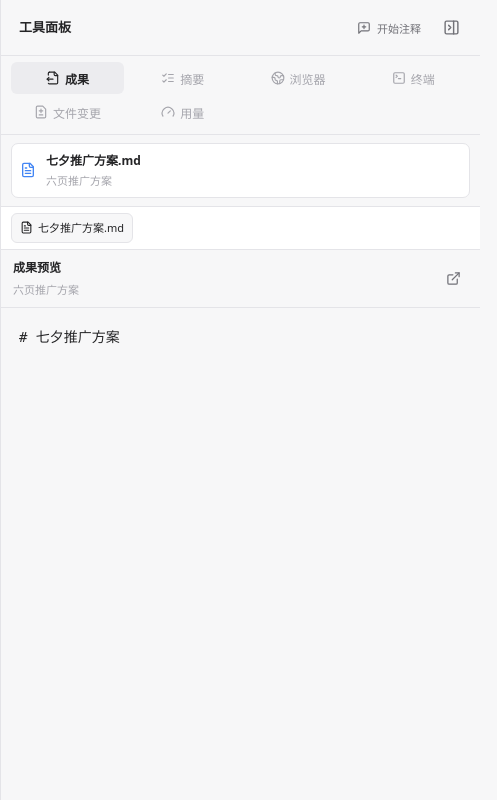
Scenario: WorkbenchPanel › 展示结构化摘要和浏览器目标
Click the tab "摘要".
click(183, 78)  # box [126,62,240,94]
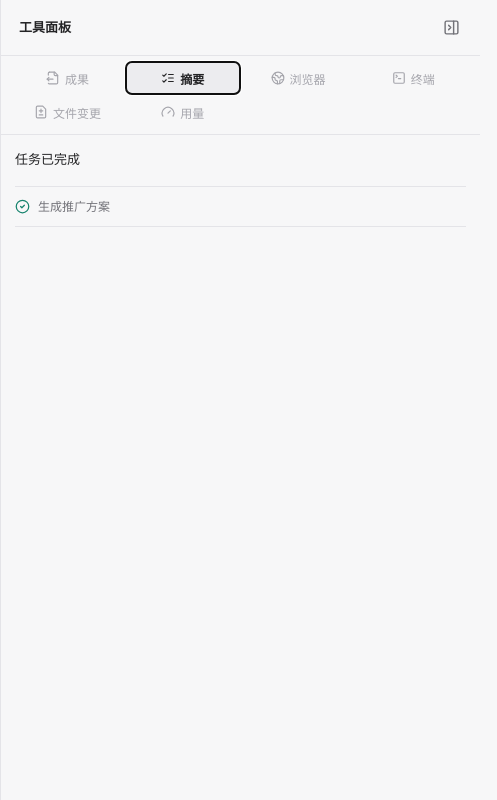
Result: the text "生成推广方案" is shown at [38,197,110,216]
Result: the text "任务已完成" is shown at [15,150,80,168]
Click the tab "浏览器".
click(298, 78)  # box [242,62,355,94]
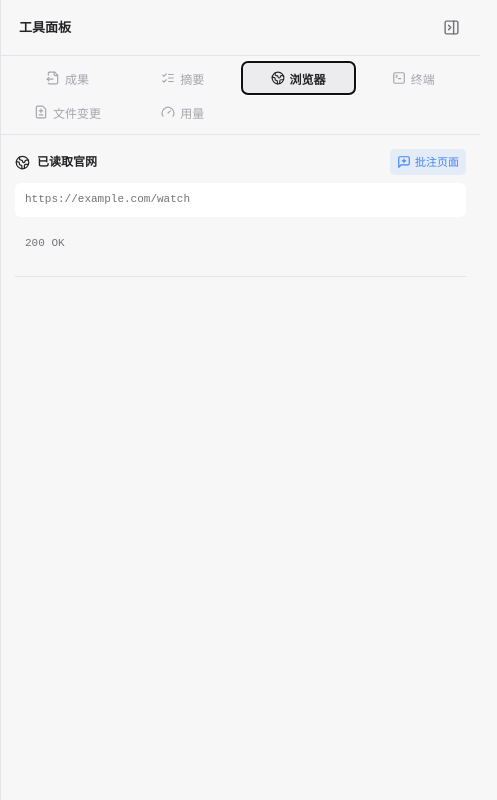
Result: the text "https://example.com/watch" is shown at [15,183,466,217]
